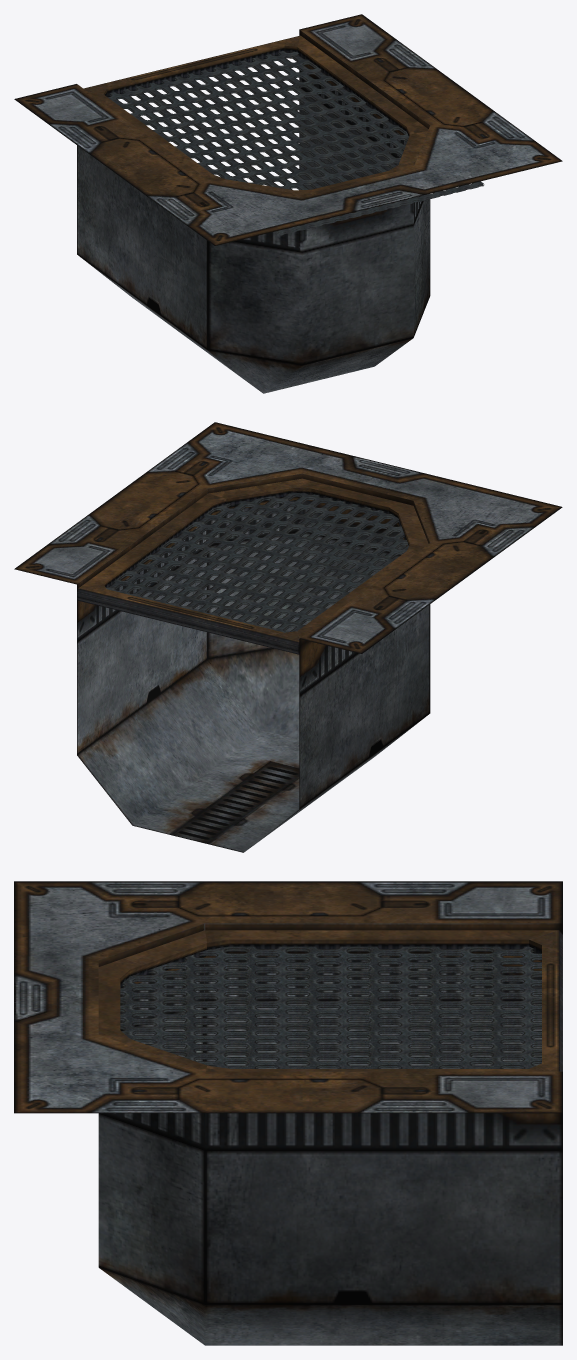
The model's file is tunnel_end_metal.dae.
3 views of the same model, one above another, from view 1: azimuth 30°, elevation 25°; view 2: azimuth 150°, elevation 25°; view 3: azimuth 270°, elevation 25° (orthographic). The views are drawn at different scales.
Visible parts, largest first — view 1: polySurface10, pPlane11, pPlane12; view 2: polySurface10, pPlane11, pPlane12; view 3: polySurface10, pPlane11, pPlane12.
Part boxes in pixels (x1=…): polySurface10: x1=14, y1=14, x2=562, y2=393; pPlane11: x1=107, y1=50, x2=484, y2=233; pPlane12: x1=109, y1=53, x2=483, y2=235; polySurface10: x1=14, y1=422, x2=562, y2=852; pPlane11: x1=106, y1=493, x2=408, y2=632; pPlane12: x1=115, y1=495, x2=407, y2=630; polySurface10: x1=14, y1=881, x2=562, y2=1345; pPlane11: x1=120, y1=946, x2=541, y2=1068; pPlane12: x1=120, y1=949, x2=541, y2=1068.
Bounding box in the file's own units: 2 × 1.25 × 2.
